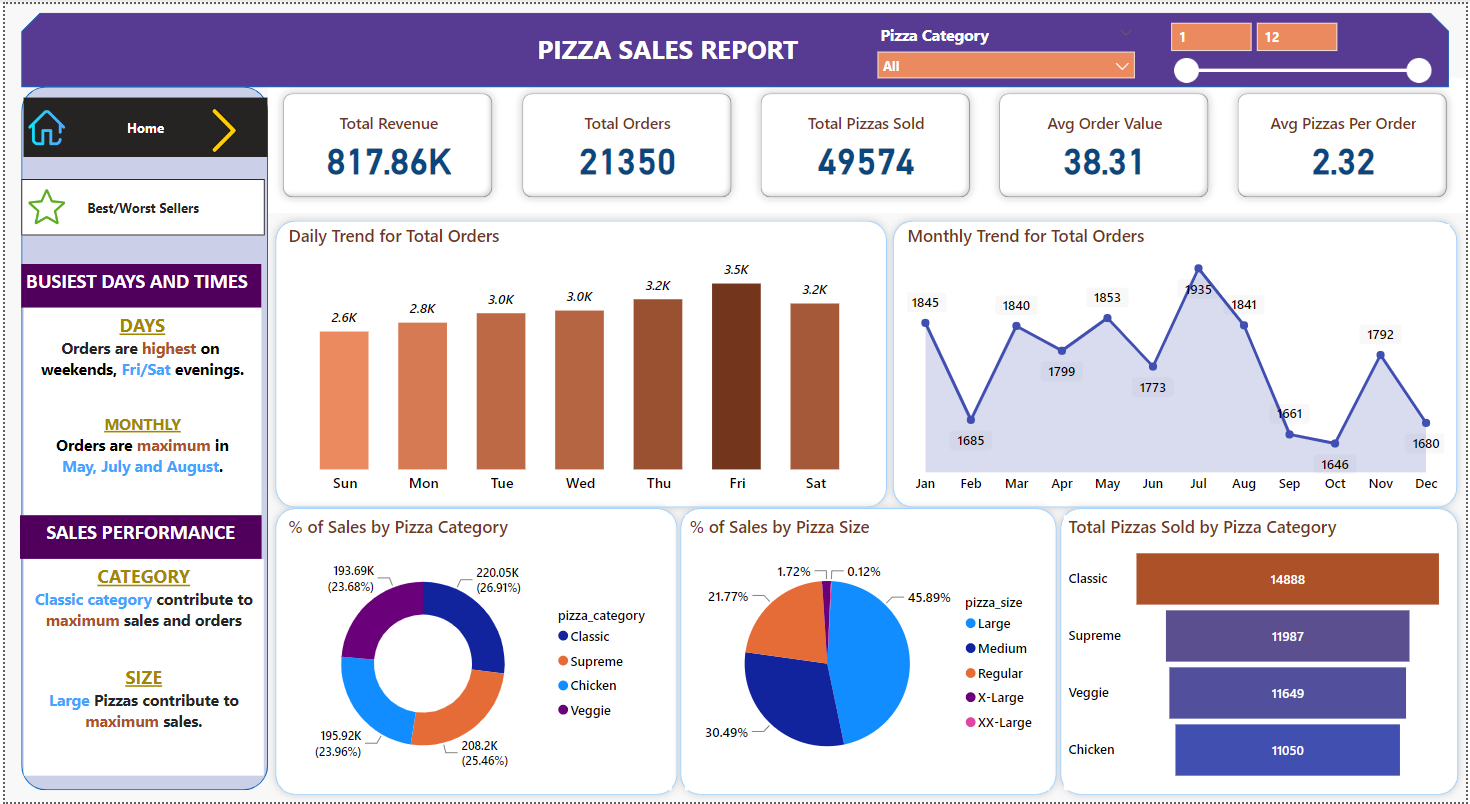

Layout of this report page (visuals, bound fields, positions):
{"tool":"powerbi","page":{"name":"Home","canvas":[1500,820],"ordinal":0},"visuals":[{"type":"cardVisual","fields":{"Data":["pizza_sales.Total Revenue","pizza_sales.Total Orders","pizza_sales.Total Pizzas Sold","pizza_sales.Avg Order Value","pizza_sales.Avg Pizzas Per Order"]},"box":[270.1,75.2,1229.3,139.2],"z":0},{"type":"shape","box":[16.7,8.4,1466,76.6],"z":1000},{"type":"textbox","box":[541,23.2,286.2,46.3],"z":2000},{"type":"shape","box":[269.8,213.9,644,310.7],"z":3000},{"type":"columnChart","title":"Daily Trend for Total Orders","fields":{"Category":["pizza_sales.Order Day"],"Y":["pizza_sales.Total Orders"]},"box":[286.2,226.2,610,286.2],"z":4000},{"type":"shape","box":[903.4,213.9,595.5,310.7],"z":5000},{"type":"areaChart","title":"Monthly Trend for Total Orders","fields":{"Category":["pizza_sales.Mon"],"Y":["pizza_sales.Total Orders"]},"box":[921.2,226.2,561.4,286.2],"z":6000},{"type":"shape","box":[270.1,509.5,428.8,310.5],"z":7000},{"type":"shape","box":[685,509.5,402.3,310.5],"z":8000},{"type":"shape","box":[1074.8,509.5,424.6,310.5],"z":9000},{"type":"donutChart","title":"% of Sales by Pizza Category","fields":{"Category":["pizza_sales.pizza_category"],"Y":["pizza_sales.Total Revenue"]},"box":[286.8,524.9,398.2,282.6],"z":10000},{"type":"pieChart","title":"% of Sales by Pizza Size","fields":{"Category":["pizza_sales.pizza_size"],"Y":["pizza_sales.Total Revenue"]},"box":[697.5,524.9,374.5,282.6],"z":11000},{"type":"funnel","title":"Total Pizzas Sold by Pizza Category","fields":{"Category":["pizza_sales.pizza_category"],"Y":["pizza_sales.Total Pizzas Sold"]},"box":[1087.3,524.9,395.4,282.6],"z":12000},{"type":"shape","box":[16.7,84.9,253.4,722.5],"z":13000},{"type":"textbox","box":[16.7,267.3,246.4,44.6],"z":14000},{"type":"textbox","box":[19.5,311.9,243.6,213],"z":15000},{"type":"textbox","box":[15.3,524.9,247.8,44.6],"z":16000},{"type":"textbox","box":[19.5,569.4,246.4,222.8],"z":17000},{"type":"slicer","fields":{"Values":["pizza_sales.pizza_category"]},"box":[885.4,15.3,284,64],"z":18000},{"type":"slicer","fields":{"Values":["pizza_sales.Month Num"]},"box":[1184.8,8.4,288.2,79.4],"z":19000},{"type":"pageNavigator","box":[19.5,96.1,250.6,61.3],"z":20000},{"type":"pageNavigator","box":[16.7,179.6,250.6,58.5],"z":21000},{"type":"image","box":[187.9,103,75.2,54.3],"z":22000},{"type":"image","box":[19.5,100.2,47.3,54.3],"z":23000},{"type":"image","box":[19.5,179.6,47.3,57.1],"z":23001}]}

Visuals, with their boxes in screenshot pixels (x1, y1, x2, y2), scaled from the page's 1500x820 canvas onto the 1470x804 screenshot:
cardVisual - pizza_sales.Total Revenue x pizza_sales.Total Orders: {"left": 265, "top": 74, "right": 1469, "bottom": 210}
shape: {"left": 16, "top": 8, "right": 1453, "bottom": 83}
textbox: {"left": 530, "top": 23, "right": 811, "bottom": 68}
shape: {"left": 264, "top": 210, "right": 896, "bottom": 514}
"Daily Trend for Total Orders" columnChart: {"left": 280, "top": 222, "right": 878, "bottom": 502}
shape: {"left": 885, "top": 210, "right": 1469, "bottom": 514}
"Monthly Trend for Total Orders" areaChart: {"left": 903, "top": 222, "right": 1453, "bottom": 502}
shape: {"left": 265, "top": 500, "right": 685, "bottom": 803}
shape: {"left": 671, "top": 500, "right": 1066, "bottom": 803}
shape: {"left": 1053, "top": 500, "right": 1469, "bottom": 803}
"% of Sales by Pizza Category" donutChart: {"left": 281, "top": 515, "right": 671, "bottom": 792}
"% of Sales by Pizza Size" pieChart: {"left": 684, "top": 515, "right": 1051, "bottom": 792}
"Total Pizzas Sold by Pizza Category" funnel: {"left": 1066, "top": 515, "right": 1453, "bottom": 792}
shape: {"left": 16, "top": 83, "right": 265, "bottom": 792}
textbox: {"left": 16, "top": 262, "right": 258, "bottom": 306}
textbox: {"left": 19, "top": 306, "right": 258, "bottom": 515}
textbox: {"left": 15, "top": 515, "right": 258, "bottom": 558}
textbox: {"left": 19, "top": 558, "right": 261, "bottom": 777}
slicer - pizza_sales.pizza_category: {"left": 868, "top": 15, "right": 1146, "bottom": 78}
slicer - pizza_sales.Month Num: {"left": 1161, "top": 8, "right": 1444, "bottom": 86}
pageNavigator: {"left": 19, "top": 94, "right": 265, "bottom": 154}
pageNavigator: {"left": 16, "top": 176, "right": 262, "bottom": 233}
image: {"left": 184, "top": 101, "right": 258, "bottom": 154}
image: {"left": 19, "top": 98, "right": 65, "bottom": 151}
image: {"left": 19, "top": 176, "right": 65, "bottom": 232}
